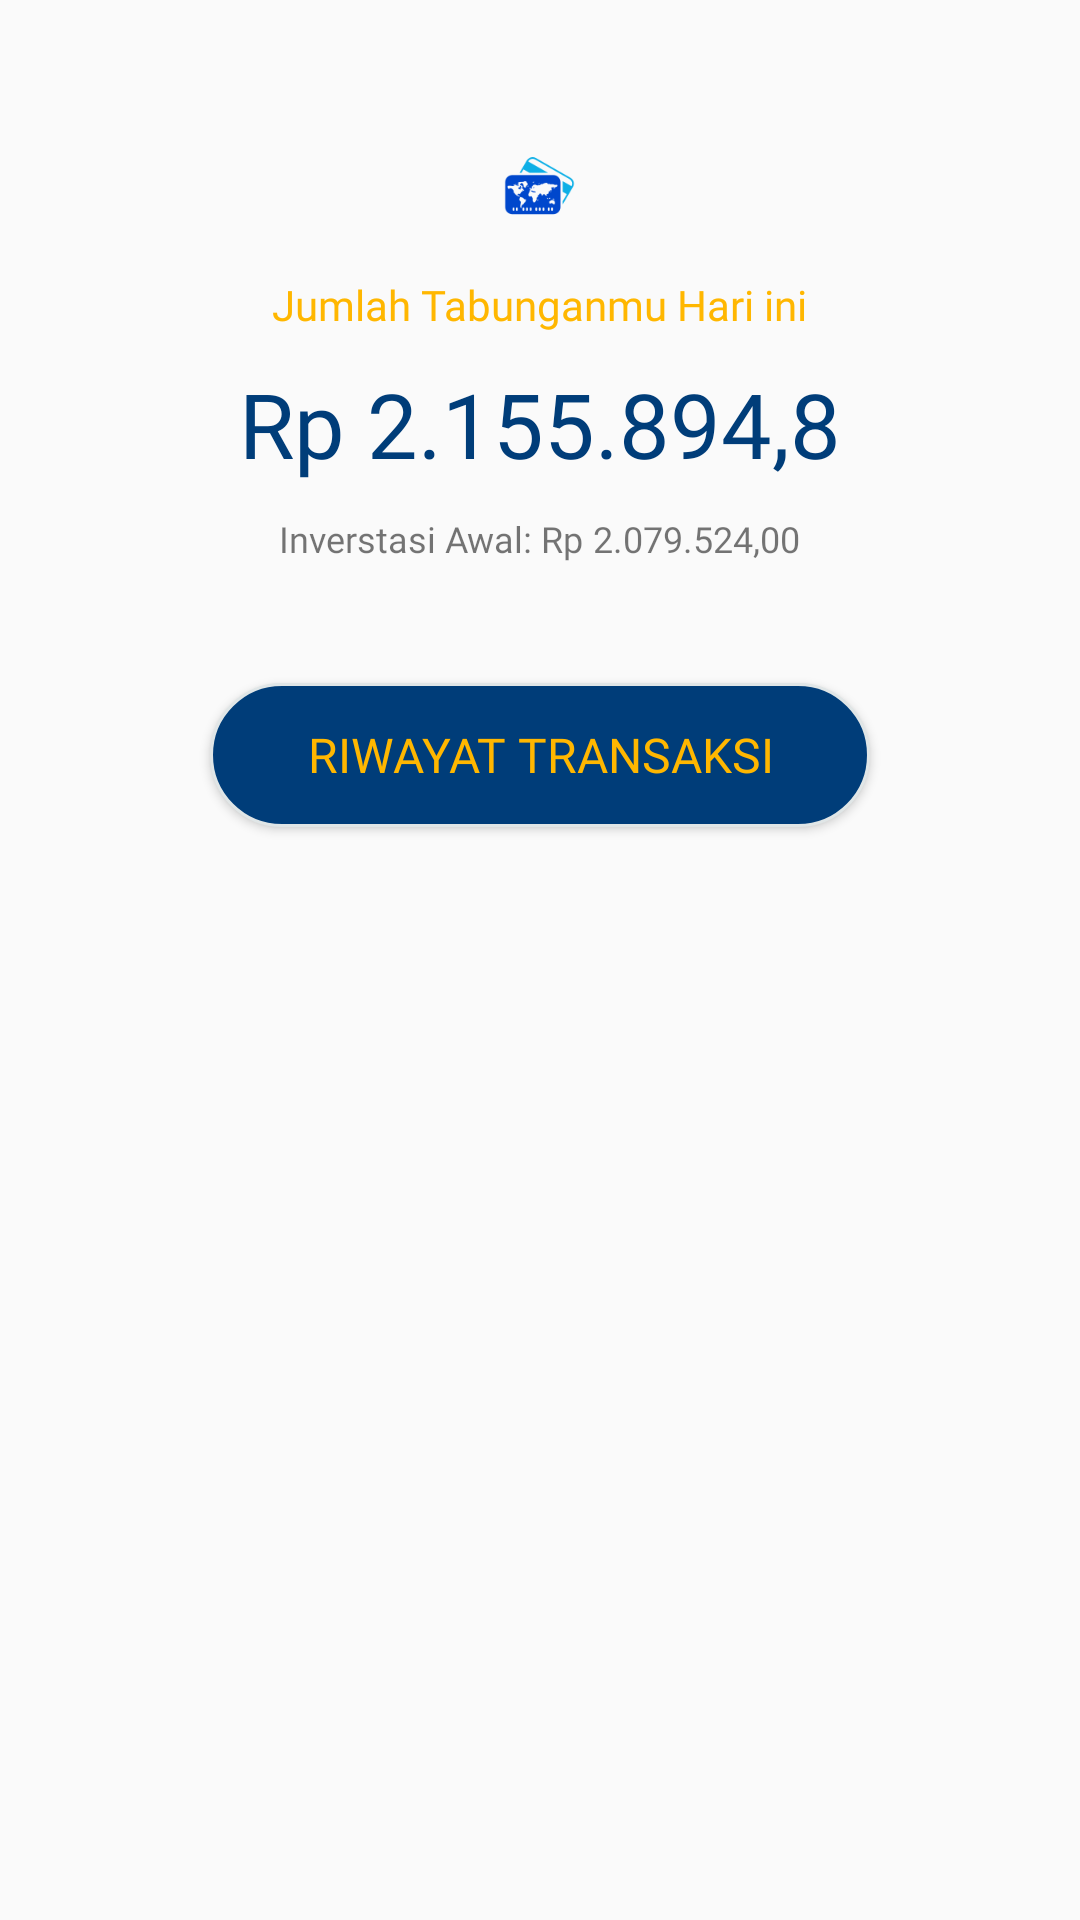

Icon click points for this 1080px x 1920px phone screenshot, format [x,y]:
card: [539,186]
